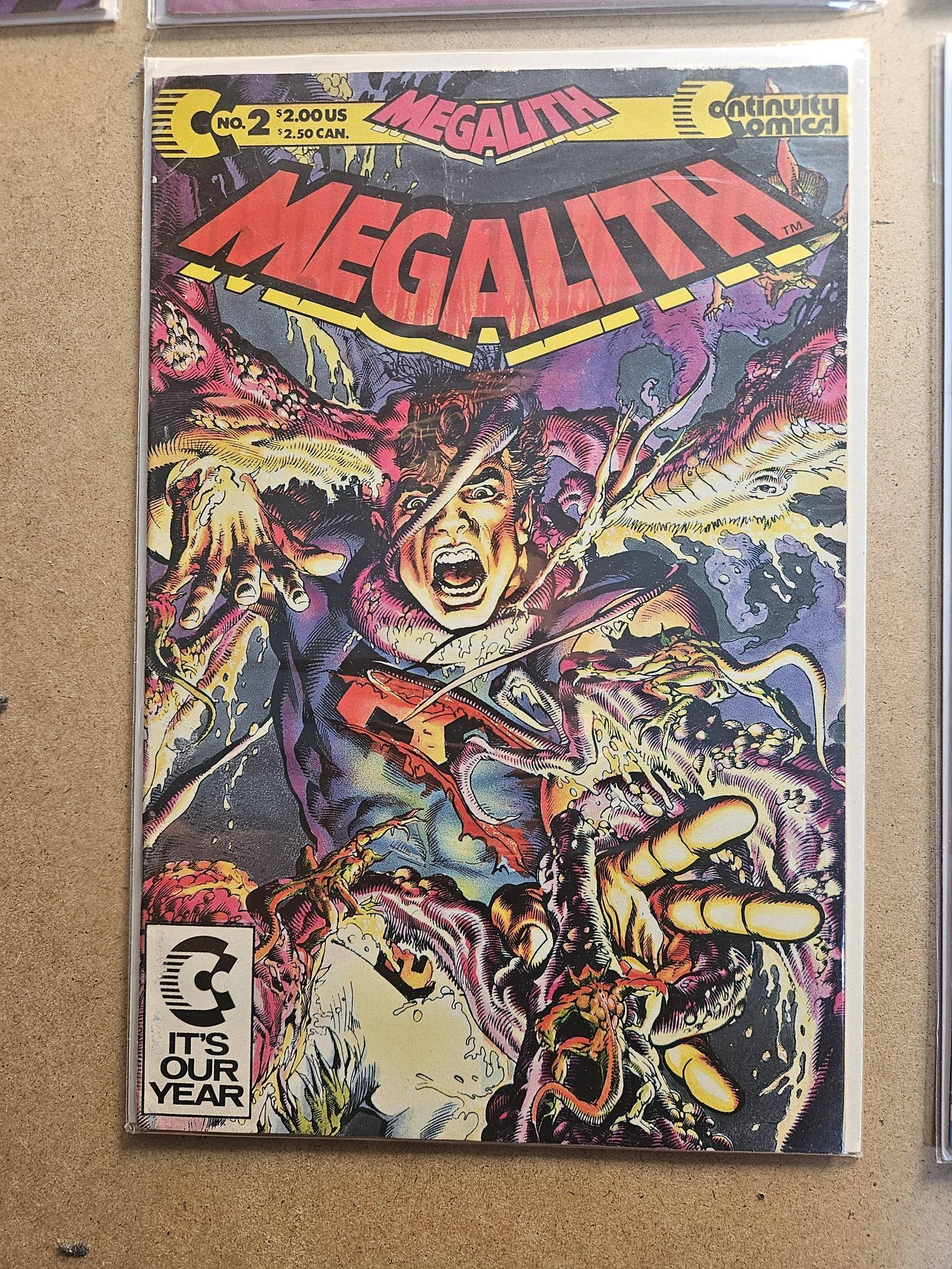comic: (130, 33, 875, 1152)
